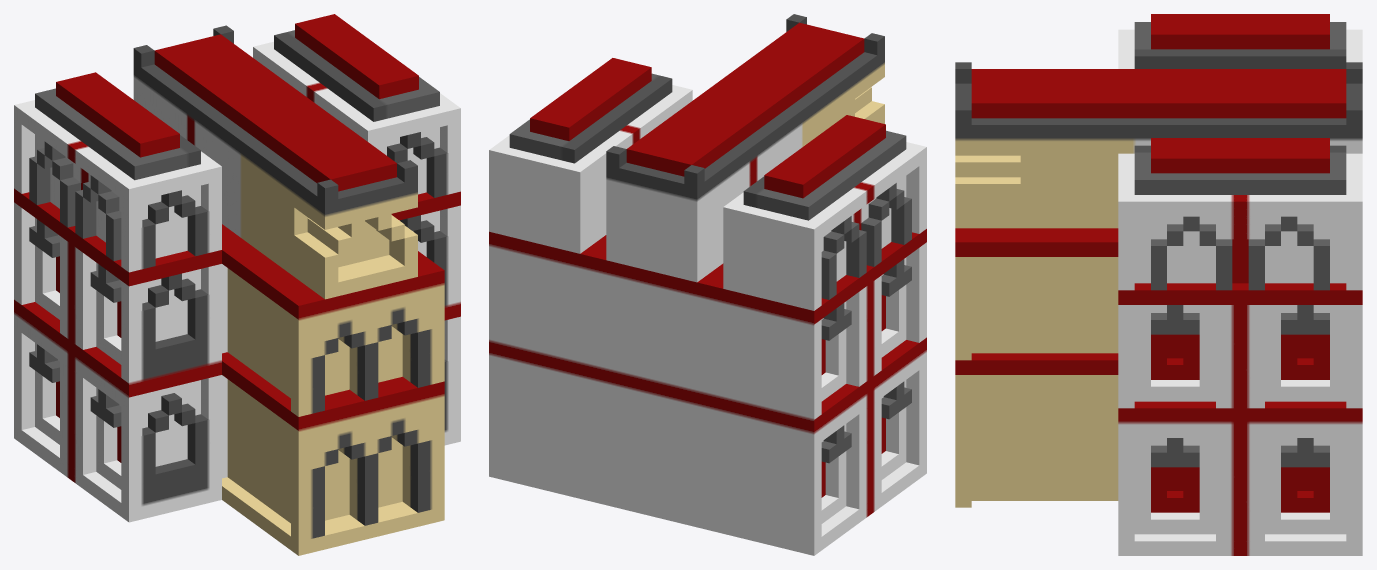
File: eleventhModel.fbx
The picture shows the model from 3 angles, left to right: view 1: azimuth 30°, elevation 25°; view 2: azimuth 150°, elevation 25°; view 3: azimuth 270°, elevation 25°; orthographic projection. The views are drawn at different scales.
Parts seen in each view (by area): view 1: Box; view 2: Box; view 3: Box.
Boxes of the visible parts, x1=… form: Box: x1=14, y1=14, x2=460, y2=555; Box: x1=489, y1=14, x2=926, y2=555; Box: x1=955, y1=14, x2=1362, y2=555.
Size of the model in its own units: 25 by 26 by 25.
1 material, 1 textured.
